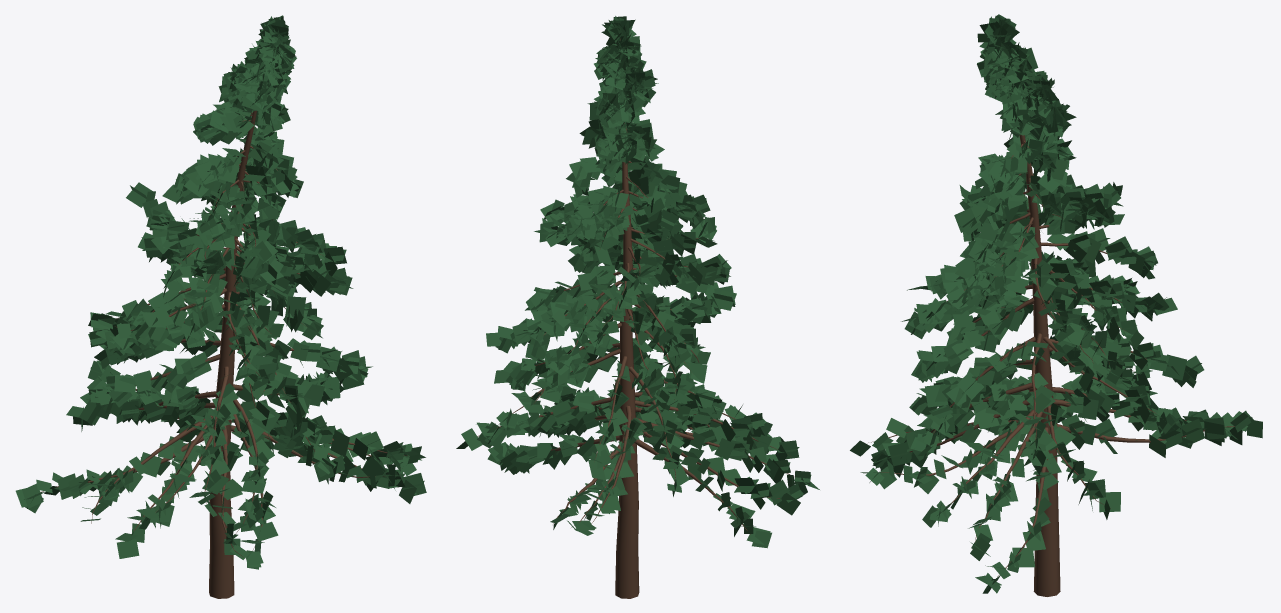
The model's file is meadow-pine-a.glb.
3 views of the same model, side by side, from view 1: azimuth 30°, elevation 25°; view 2: azimuth 150°, elevation 25°; view 3: azimuth 270°, elevation 25° (orthographic). The views are drawn at different scales.
Visible parts, largest first — view 1: leaves, bark; view 2: leaves, bark; view 3: leaves, bark.
Boxes of the visible parts, x1=… form: leaves: x1=15, y1=15, x2=426, y2=569; bark: x1=40, y1=110, x2=407, y2=598; leaves: x1=456, y1=16, x2=819, y2=548; bark: x1=477, y1=38, x2=794, y2=598; leaves: x1=850, y1=14, x2=1262, y2=593; bark: x1=868, y1=135, x2=1234, y2=596.
Bounding box in the file's own units: 32.34 × 51.27 × 32.82.
